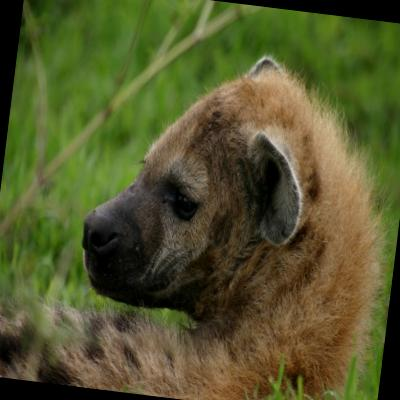hyenas: (17, 0, 400, 400)
